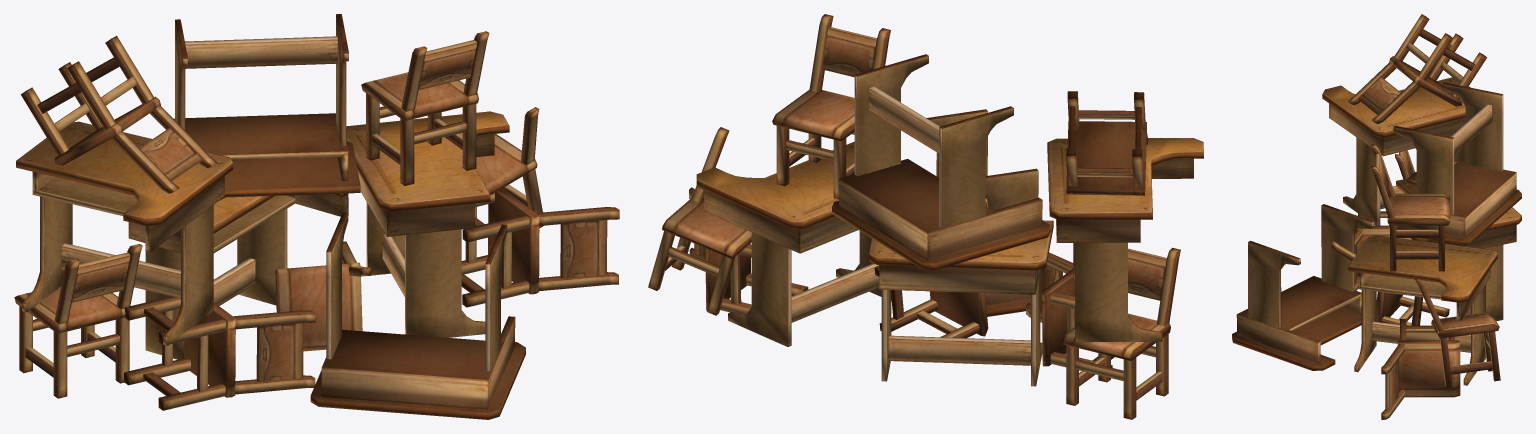
Rendered from a_SWAdesk02.glb.
The picture shows the model from 3 angles, left to right: view 1: azimuth 30°, elevation 25°; view 2: azimuth 150°, elevation 25°; view 3: azimuth 270°, elevation 25°; orthographic projection. The views are drawn at different scales.
Parts seen in each view (by area): view 1: a_SWAdesk02; view 2: a_SWAdesk02; view 3: a_SWAdesk02.
Boxes of the visible parts, x1,y1,x2,y2 form: a_SWAdesk02: [14, 14, 619, 419]; a_SWAdesk02: [648, 14, 1203, 419]; a_SWAdesk02: [1232, 14, 1521, 419].
Size of the model in its own units: 3.33 by 1.87 by 2.15.
Materials: 1 (1 with a texture image).
